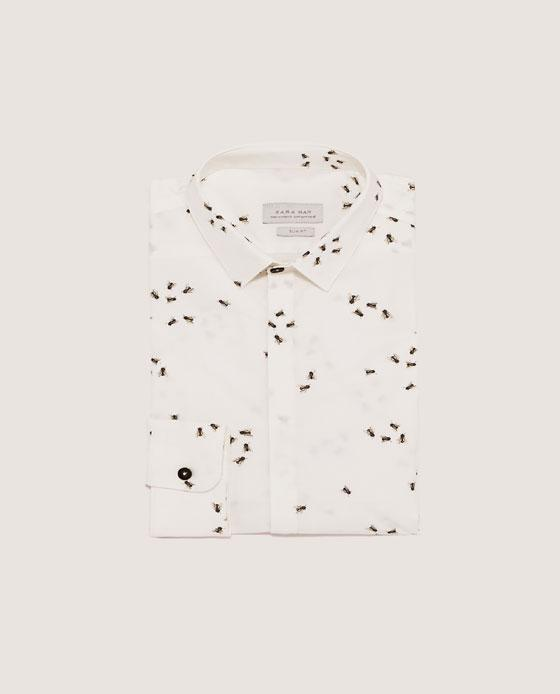teeshirt: (141, 137, 426, 562)
